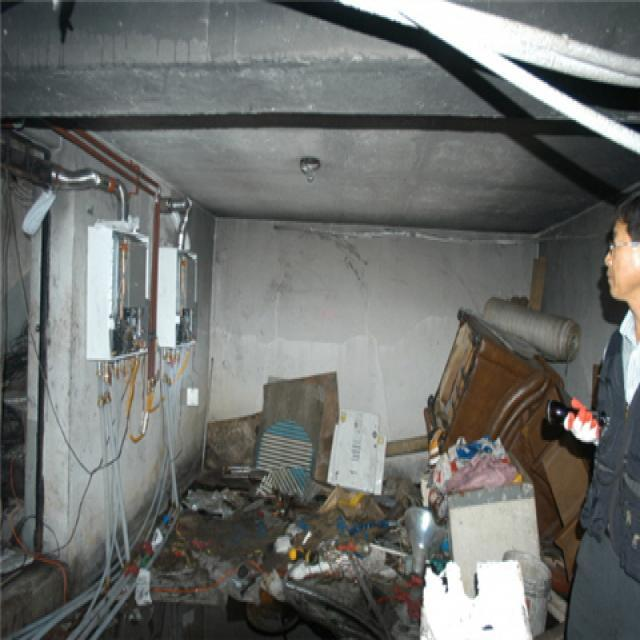Boiler: (78, 200, 162, 420), (143, 217, 224, 427)
